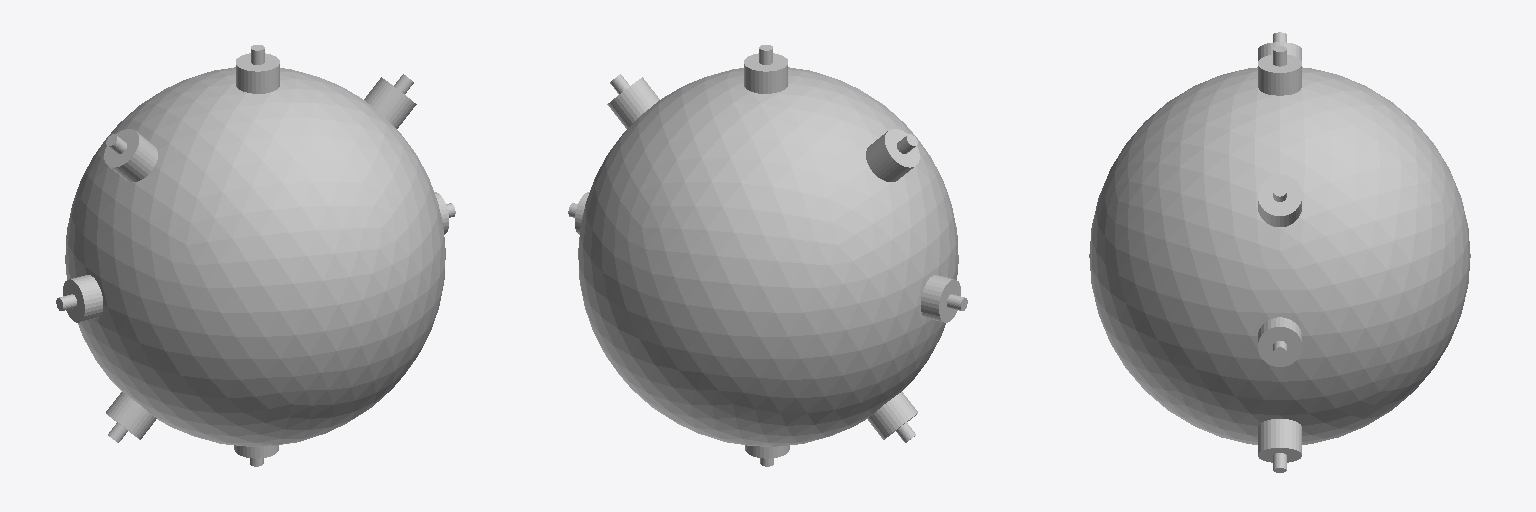
File: watermine9.obj
The picture shows the model from 3 angles: view 1: azimuth 30°, elevation 25°; view 2: azimuth 150°, elevation 25°; view 3: azimuth 270°, elevation 25°; orthographic projection.
Parts seen in each view (by area): view 1: Icosphere, Cylinder.011, Cylinder, Cylinder.003, Cylinder.010, Cylinder.013, Cylinder.002; view 2: Icosphere, Cylinder.011, Cylinder, Cylinder.003, Cylinder.010, Cylinder.013, Cylinder.002; view 3: Icosphere, Cylinder.010, Cylinder.012, Cylinder.001, Cylinder, Cylinder.011.
Part boxes in pixels (bbox=[...]): Icosphere: bbox=[65, 67, 445, 446]; Cylinder.011: bbox=[104, 129, 157, 181]; Cylinder: bbox=[236, 45, 279, 93]; Cylinder.003: bbox=[56, 275, 102, 322]; Cylinder.010: bbox=[364, 74, 416, 128]; Cylinder.013: bbox=[106, 392, 156, 442]; Cylinder.002: bbox=[234, 445, 278, 466]; Icosphere: bbox=[578, 67, 958, 446]; Cylinder.011: bbox=[866, 129, 919, 181]; Cylinder: bbox=[744, 45, 787, 93]; Cylinder.003: bbox=[921, 275, 967, 322]; Cylinder.010: bbox=[607, 74, 659, 128]; Cylinder.013: bbox=[867, 392, 917, 442]; Cylinder.002: bbox=[745, 445, 789, 466]; Icosphere: bbox=[1089, 67, 1470, 444]; Cylinder.010: bbox=[1258, 174, 1301, 226]; Cylinder.012: bbox=[1258, 419, 1301, 472]; Cylinder.001: bbox=[1258, 317, 1301, 366]; Cylinder: bbox=[1258, 46, 1301, 95]; Cylinder.011: bbox=[1258, 32, 1301, 60].
Size of the model in its own units: 2.38 by 2.41 by 2.